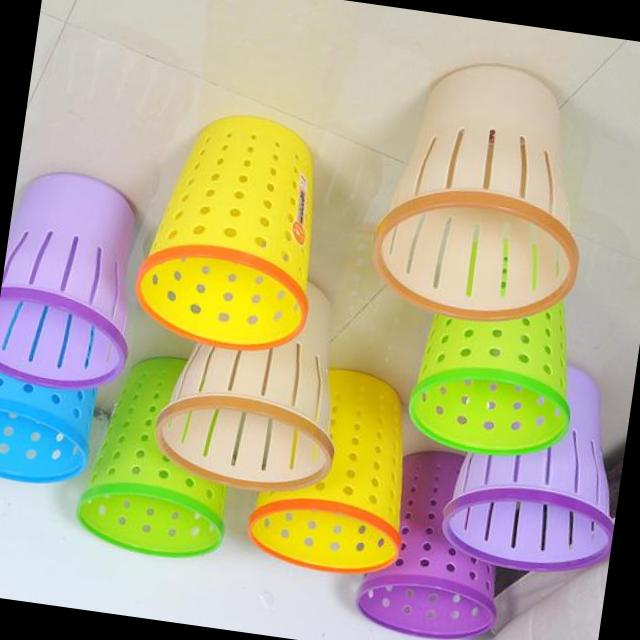dustbin: (361, 48, 609, 341), (124, 98, 340, 364), (142, 257, 366, 509), (434, 346, 636, 586), (238, 356, 428, 584), (69, 343, 252, 572), (0, 160, 156, 402), (398, 283, 592, 472), (347, 439, 522, 640)
